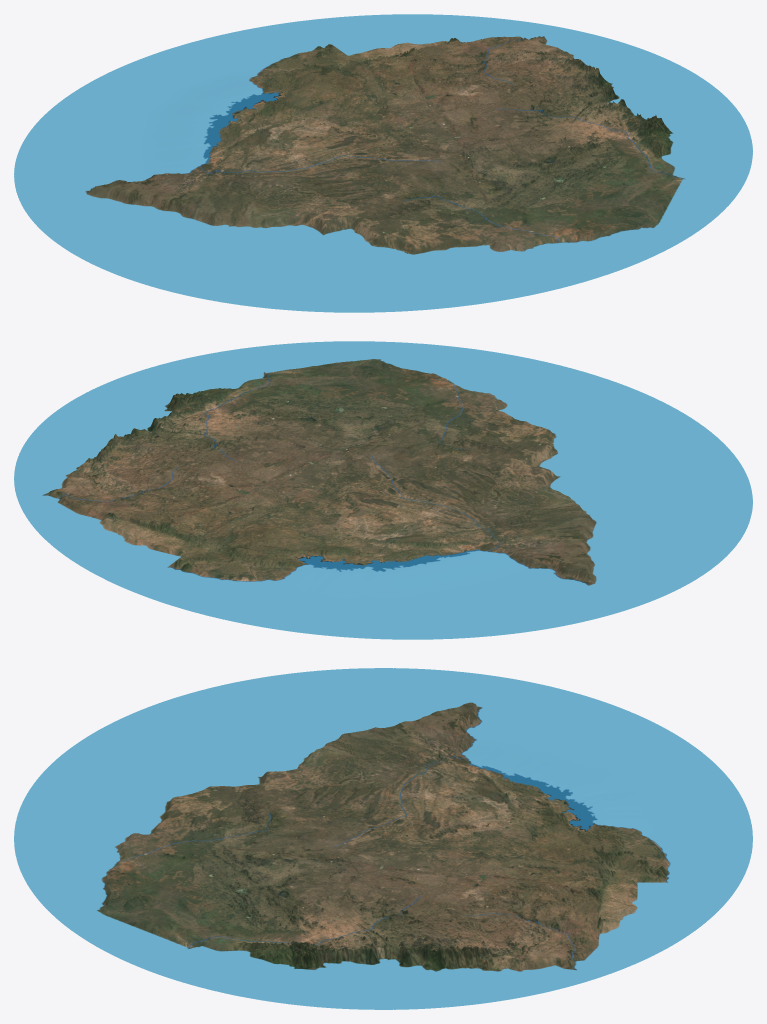
The model's file is ZWE-previa-terrain.glb.
3 views of the same model, one above another, from view 1: azimuth 30°, elevation 25°; view 2: azimuth 150°, elevation 25°; view 3: azimuth 270°, elevation 25° (orthographic). The views are drawn at different scales.
Visible parts, largest first — view 1: Zimbábue; view 2: Zimbábue; view 3: Zimbábue.
Boxes of the visible parts, bbox=[...] form: Zimbábue: bbox=[14, 14, 752, 312]; Zimbábue: bbox=[14, 341, 752, 639]; Zimbábue: bbox=[14, 668, 752, 1009].
Bounding box in the file's own units: 2.28 × 0.0579 × 2.08.
1 material, 1 textured.
